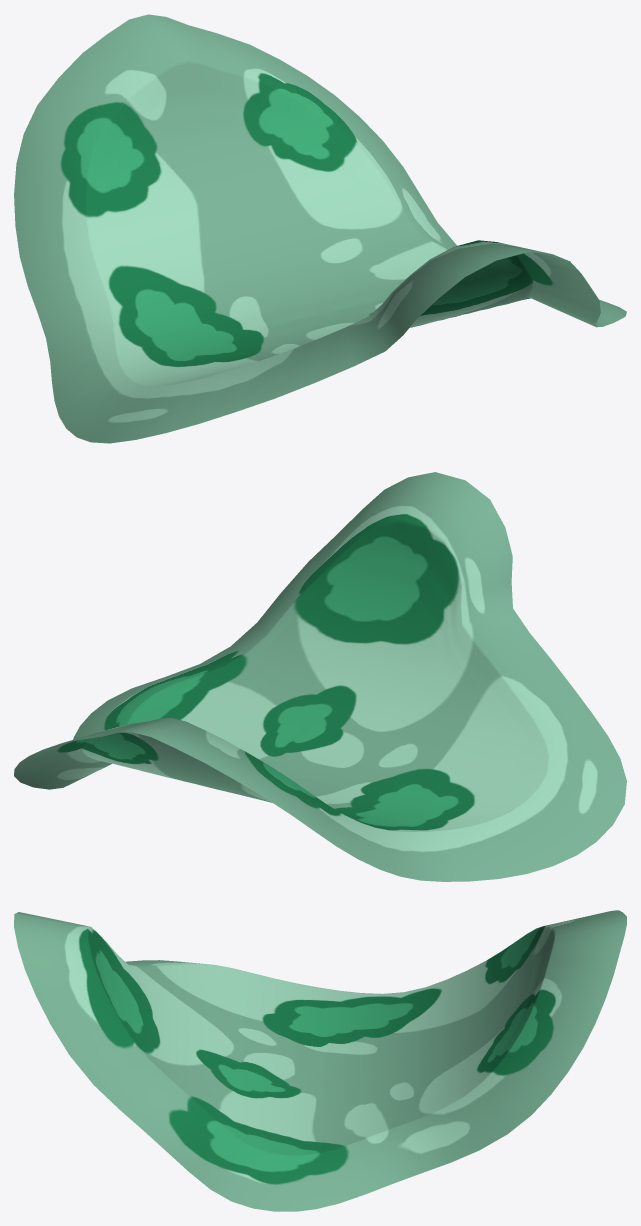
Rendered from Large Mossy Puddle.fbx.
3 renders of one model, top to bottom at view 1: azimuth 30°, elevation 25°; view 2: azimuth 150°, elevation 25°; view 3: azimuth 270°, elevation 25°, orthographic. The views are drawn at different scales.
Parts seen in each view (by area): view 1: Large; view 2: Large; view 3: Large.
Boxes of the visible parts, x1,y1,x2,y2 form: Large: [14, 14, 626, 443]; Large: [14, 472, 626, 881]; Large: [14, 910, 626, 1211].
Size of the model in its own units: 50.55 by 19.51 by 56.74.
Materials: 1 (1 with a texture image).
